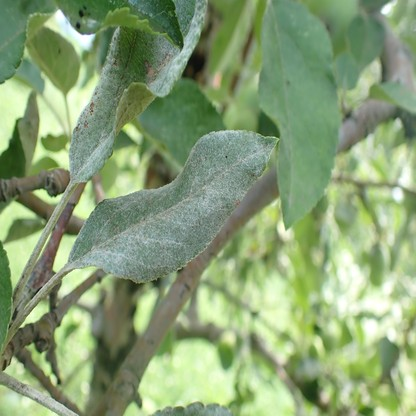powdery_mildew: (68, 128, 279, 282), (69, 1, 209, 179), (149, 403, 236, 416), (129, 0, 155, 17)
